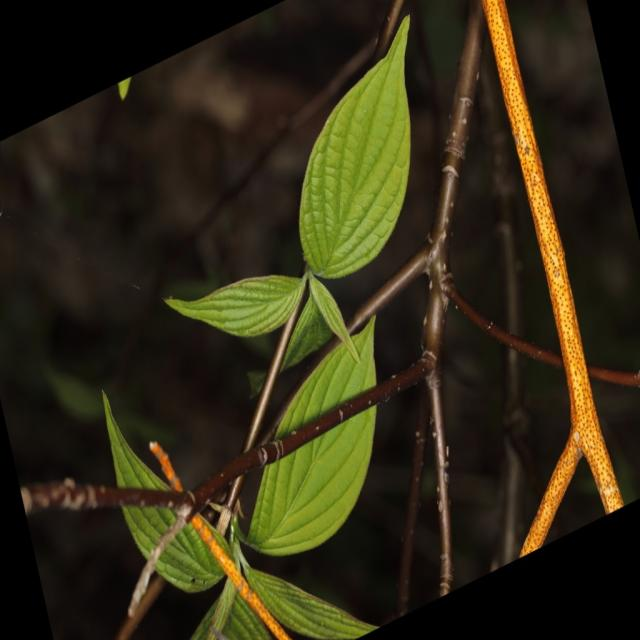Golden_canker: (480, 0, 625, 558), (147, 439, 292, 638)
